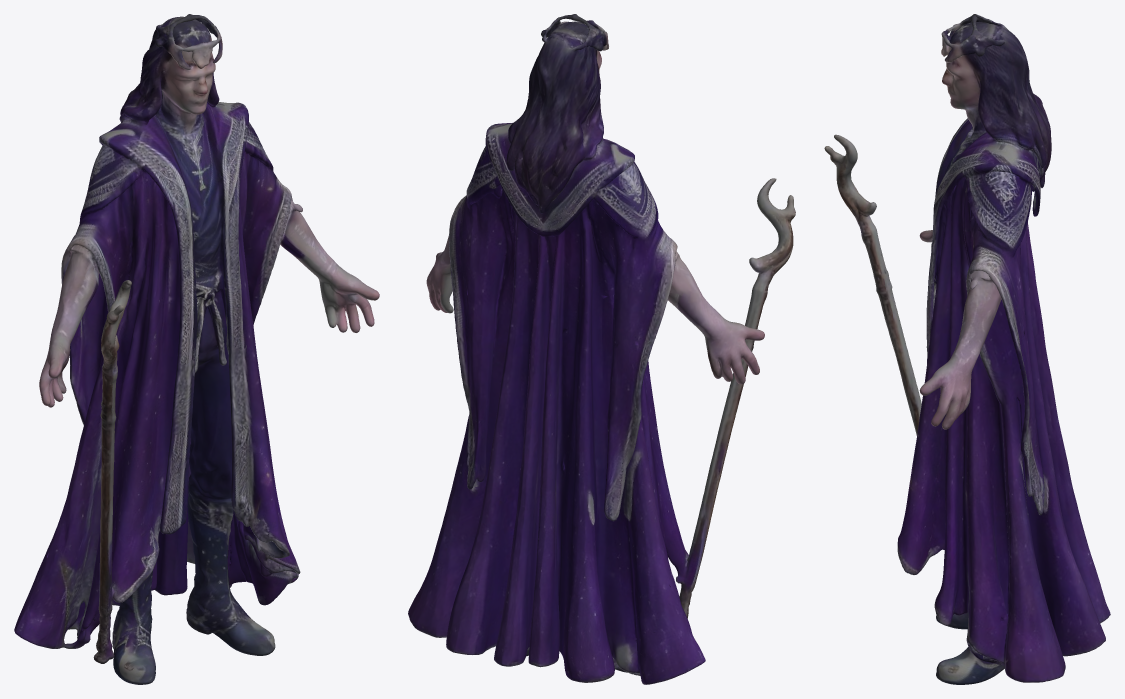
The picture shows the model from 3 angles, left to right: view 1: azimuth 30°, elevation 25°; view 2: azimuth 150°, elevation 25°; view 3: azimuth 270°, elevation 25°; orthographic projection.
Visible parts, largest first — view 1: tripo_node_94606a3a-7a07-4b36-b3cc-28fc85eb5d65; view 2: tripo_node_94606a3a-7a07-4b36-b3cc-28fc85eb5d65; view 3: tripo_node_94606a3a-7a07-4b36-b3cc-28fc85eb5d65.
Boxes of the visible parts, x1,y1,x2,y2 form: tripo_node_94606a3a-7a07-4b36-b3cc-28fc85eb5d65: [14, 14, 379, 684]; tripo_node_94606a3a-7a07-4b36-b3cc-28fc85eb5d65: [408, 14, 795, 684]; tripo_node_94606a3a-7a07-4b36-b3cc-28fc85eb5d65: [824, 14, 1110, 684].
Bounding box in the file's own units: 0.5366 × 1 × 0.4066.
1 material, 1 textured.
